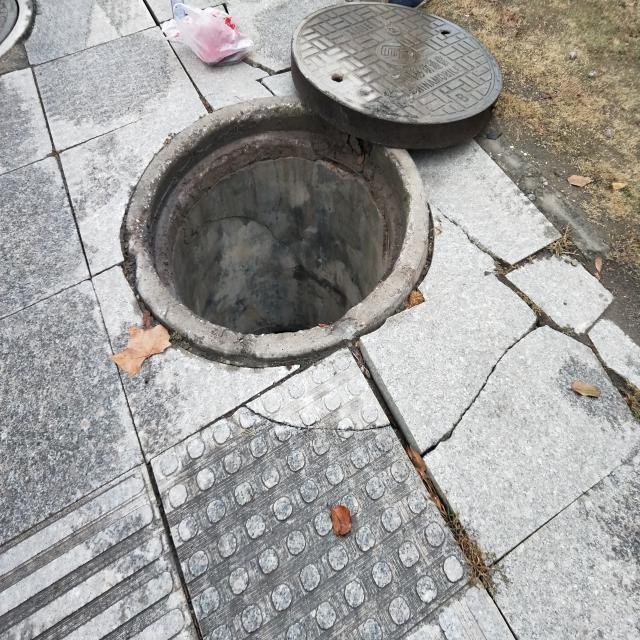Faulty: (123, 1, 500, 359)
